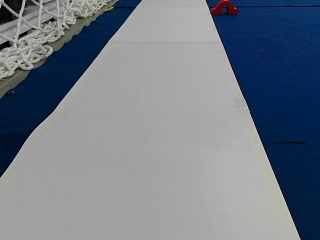bridge: (211, 0, 237, 14)
